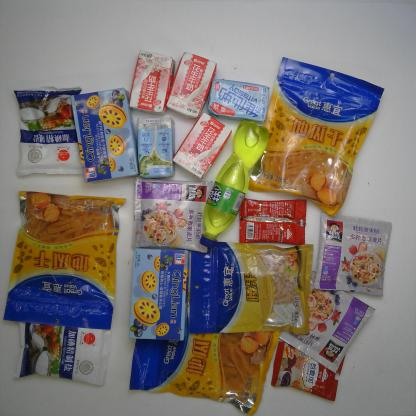Dessert: (70, 87, 140, 182), (130, 247, 192, 344)
Dried Fruit: (253, 56, 387, 216), (3, 186, 126, 332), (127, 332, 282, 416), (194, 234, 317, 336)
Drink: (200, 117, 270, 247)
Instant Drink: (279, 283, 377, 376), (315, 214, 397, 298), (131, 177, 209, 255), (272, 335, 347, 400), (239, 197, 307, 249)
Milk: (173, 114, 232, 180), (164, 52, 220, 118), (128, 50, 176, 113), (209, 75, 271, 122), (136, 116, 178, 180)
Seasoner: (14, 311, 116, 390), (13, 86, 89, 179)
